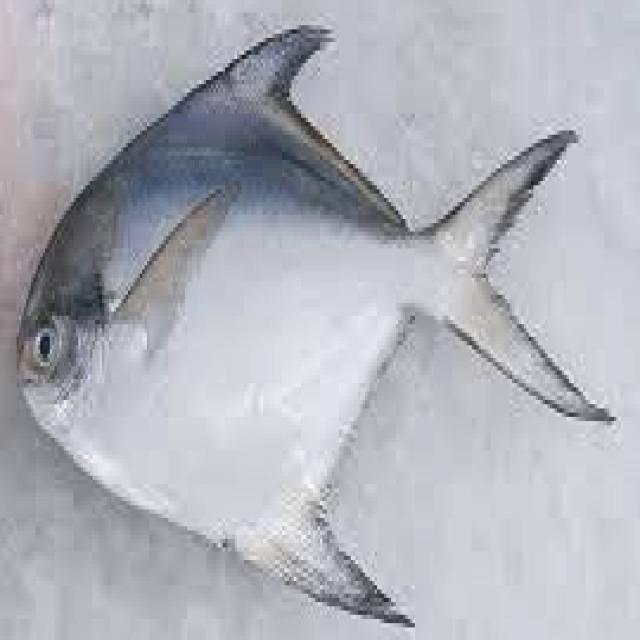pomfred: (20, 29, 610, 634)
